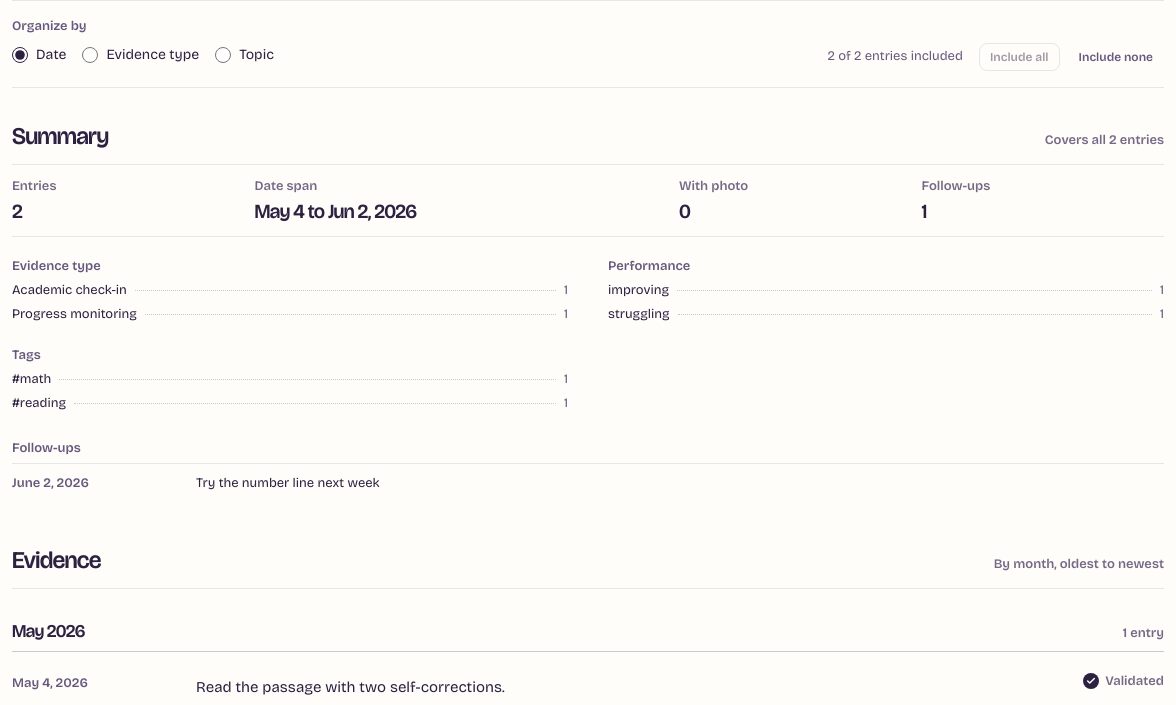
Test: EvidenceReportBody › shows an all-excluded state that can restore every entry
Click the button "Include none".
click(1116, 57)  # box [1068, 43, 1164, 71]
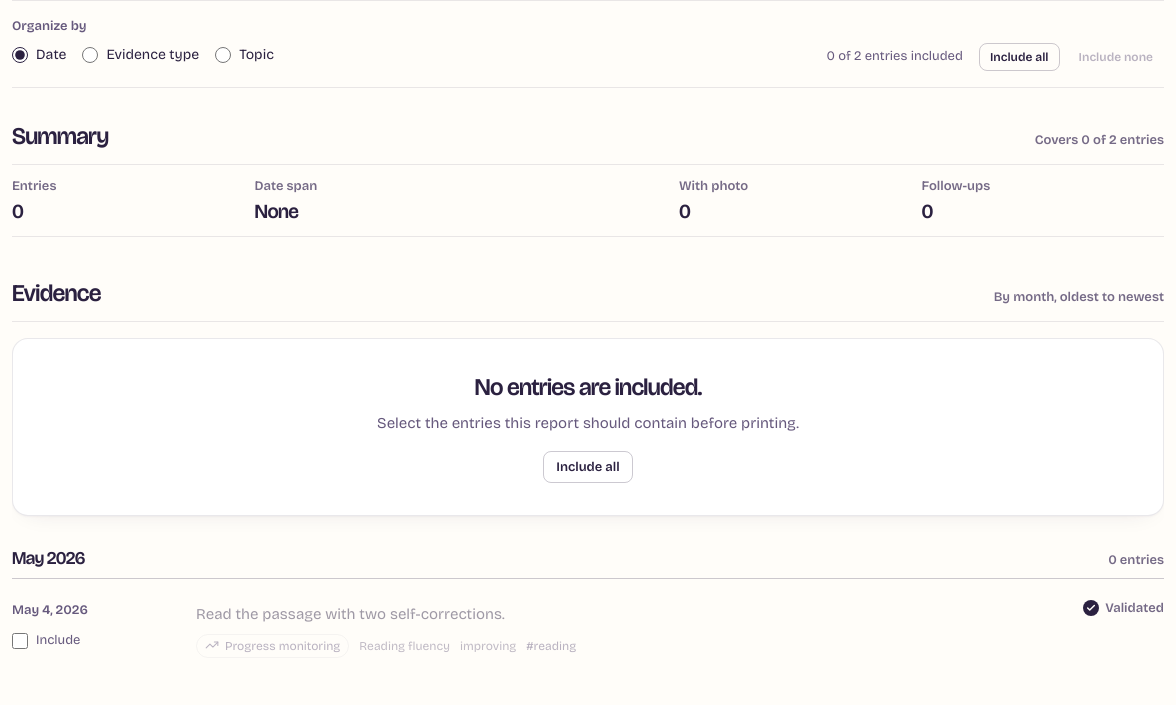
expect the text "No entries are included." is shown: met, box [474, 373, 702, 401]
expect the text "0 of 2 entries included" is shown: met, box [826, 47, 963, 67]
Click the button "Include all" next to "entries included".
click(1019, 57)  # box [979, 43, 1060, 71]
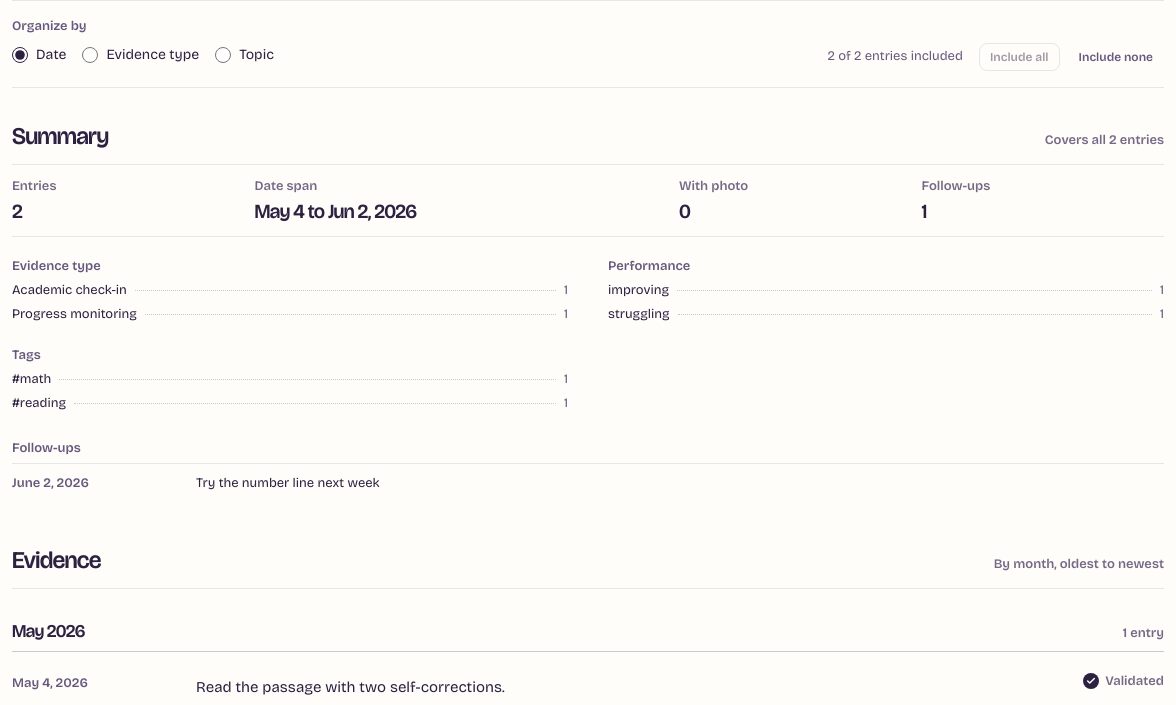
expect the text "No entries are included." is gone: met
expect the text "2 of 2 entries included" is shown: met, box [827, 47, 963, 67]
